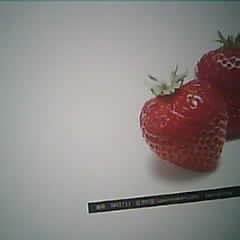straw-ripe: (141, 81, 227, 173)
